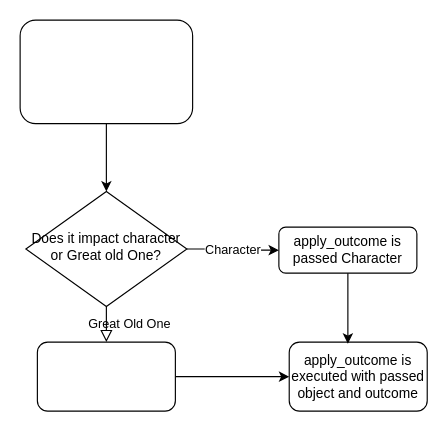
This 447x431 diagram has some shape labels left out. Each missing label, with the centre of its shape:
apply_outcome is passed Great Old One: pixel 105 376
Outcome = Reward/Penalty is received from attempt_task_card function: pixel 106 71
